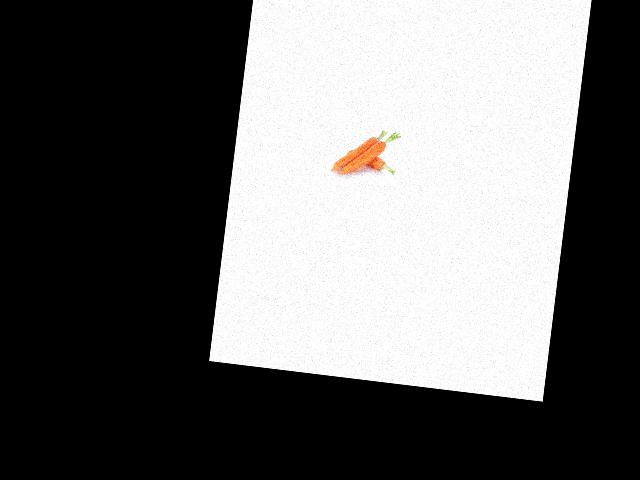carrot: (343, 146, 396, 172)
